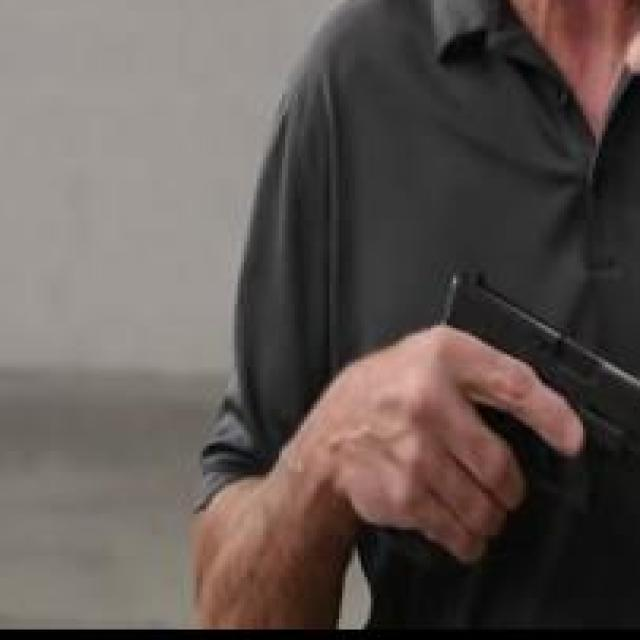Guns: (355, 236, 640, 588)
